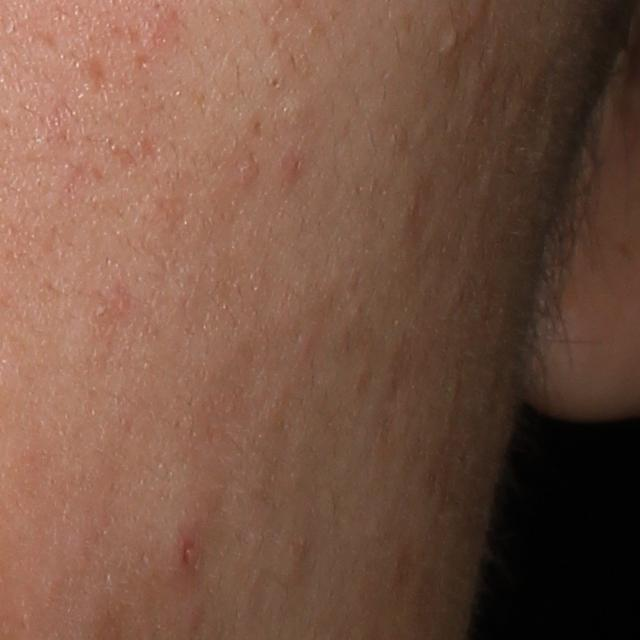atrophic_scar: (73, 51, 121, 101)
comedo: (443, 21, 464, 60)
papule: (168, 518, 209, 577)
